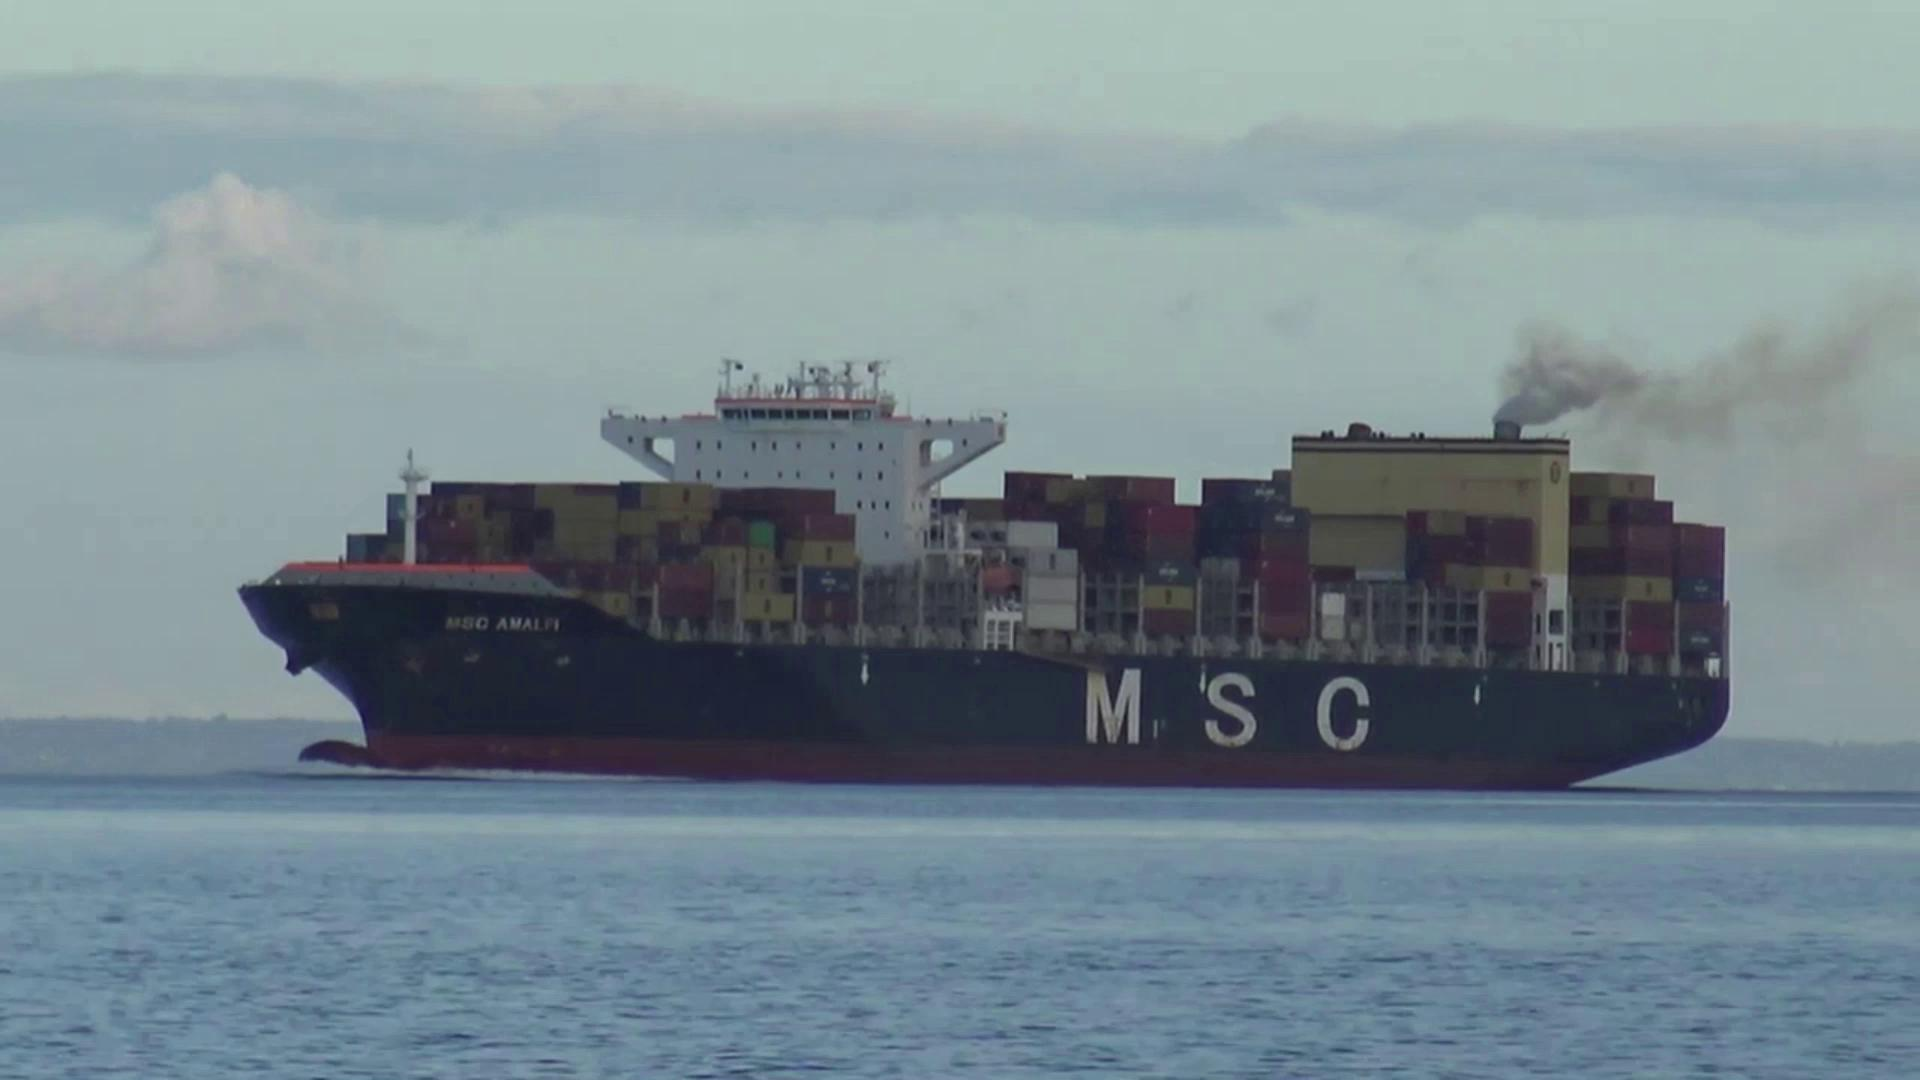OCR: (1064, 663, 1379, 762), (426, 600, 576, 641)
